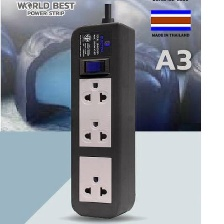three_eye_plug: (66, 17, 138, 222)
